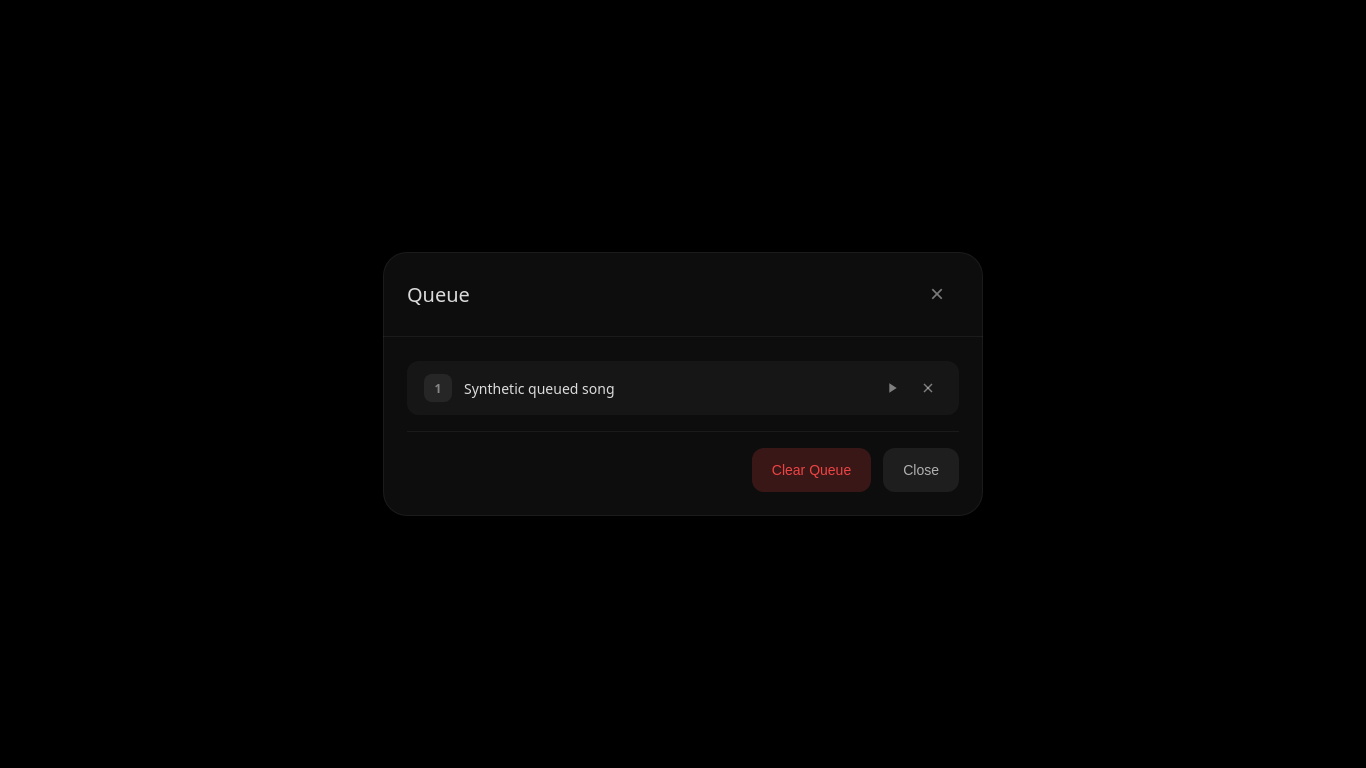
Queue initial-read recovery through the actual response adapter › a failed action refresh retains the last confirmed HTTP rows and offers Retry
Click the button named "Play Synthetic queued song now" at [892, 388], box [878,374,906,402]
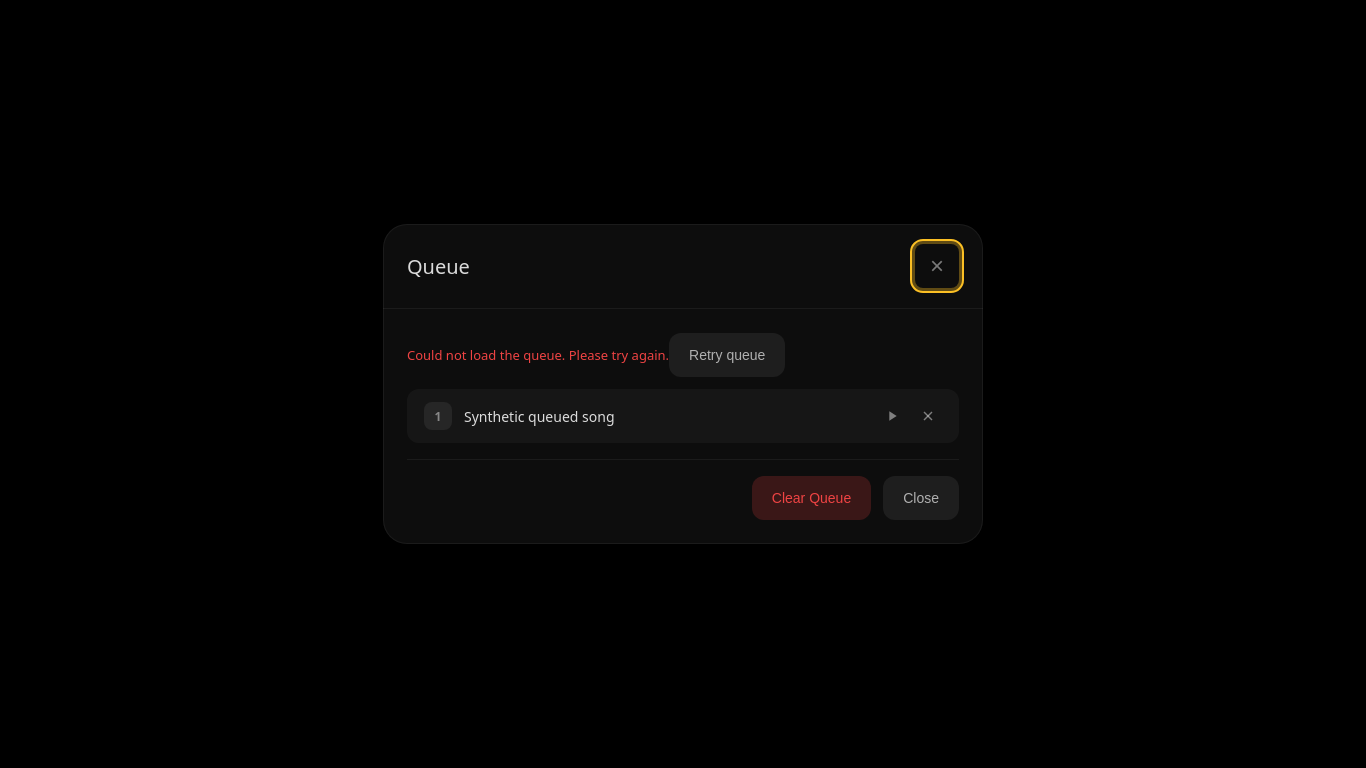
Expected: the text "Synthetic queued song" is shown, [464,406,614,426]
Result: the message shows "Could not load the queue" at [407,346,669,364]
